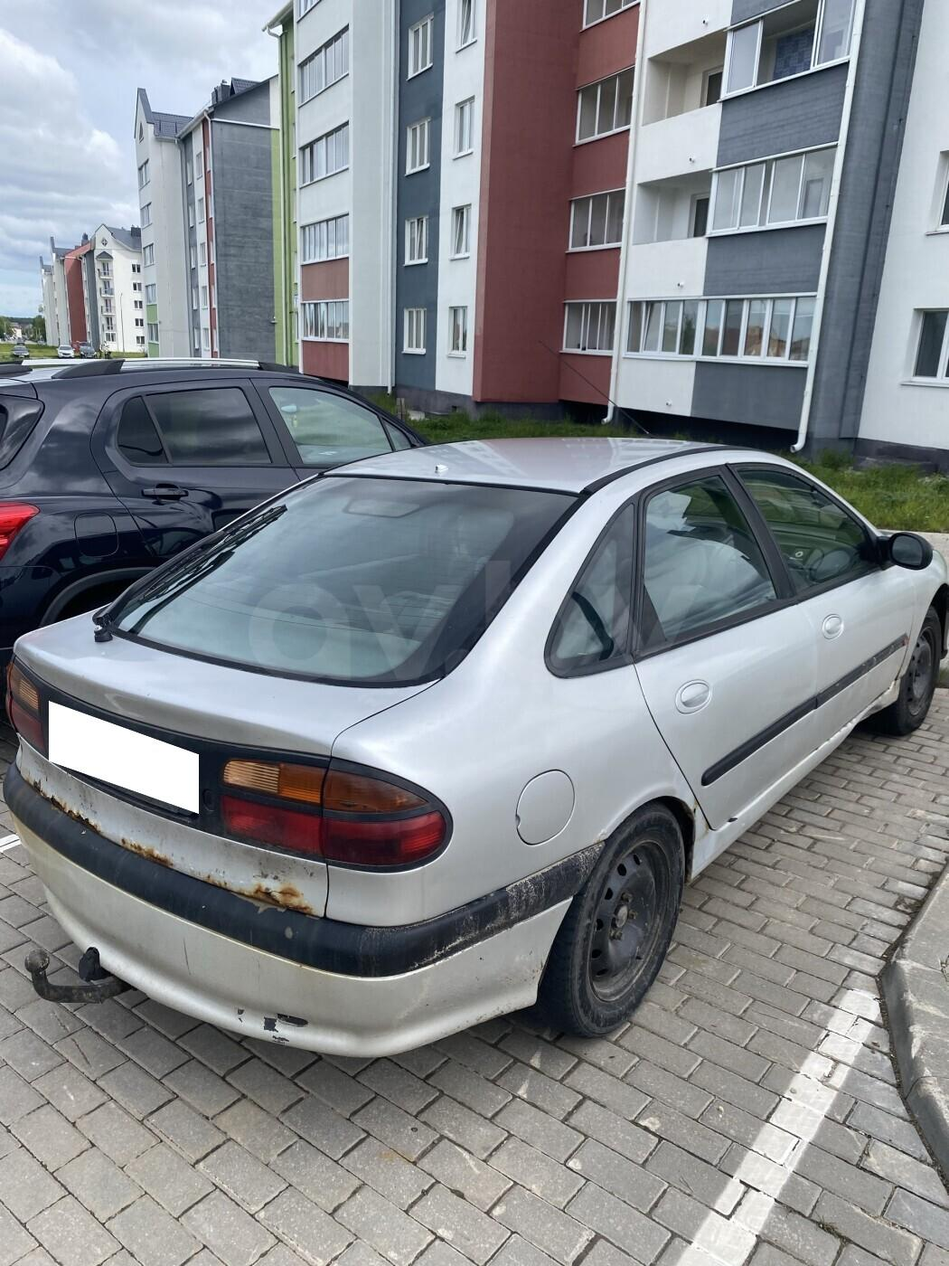Laguna_1998-2001: (5, 429, 949, 1058)
